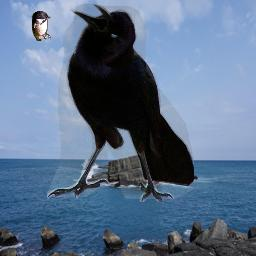Crow: (47, 4, 194, 202)
Swallow: (31, 10, 51, 41)
